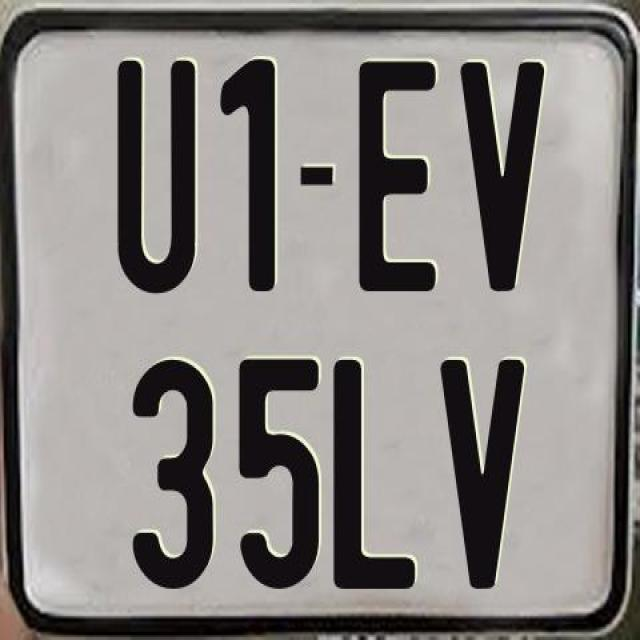1: (216, 55, 274, 292)
3: (130, 358, 217, 594)
5: (235, 356, 318, 594)
E: (356, 56, 436, 294)
L: (332, 360, 415, 598)
U: (115, 59, 193, 301)
V: (458, 58, 550, 292), (440, 356, 527, 594)
